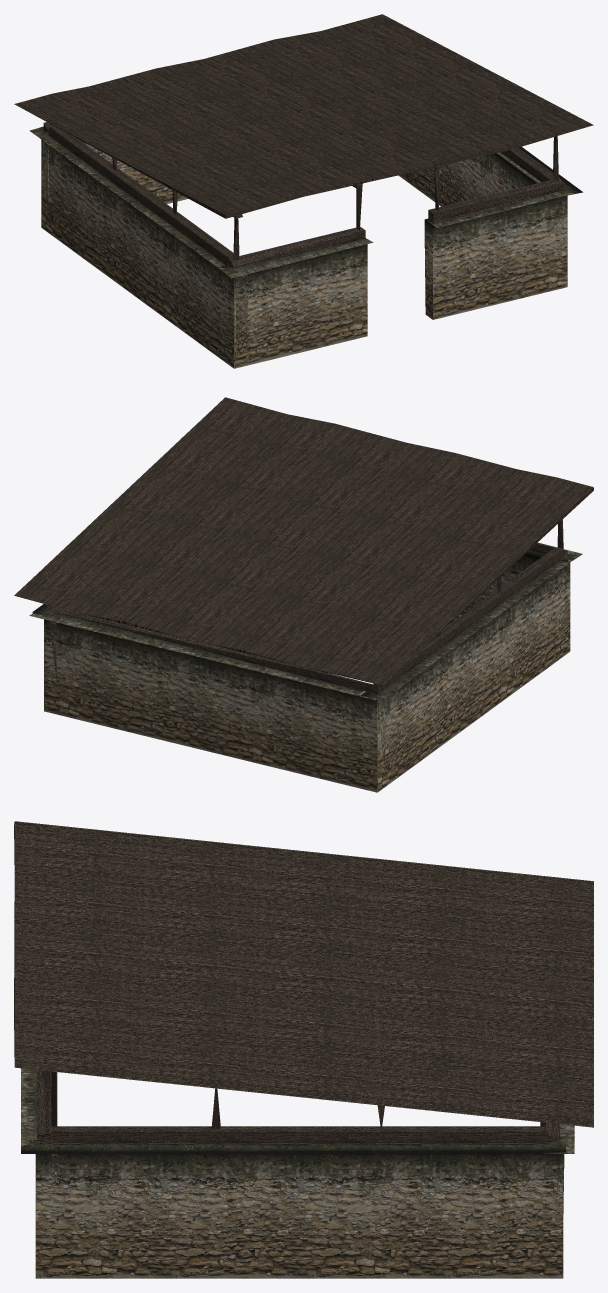
The model's file is barn2_LOD.fbx.
The picture shows the model from 3 angles, top to bottom: view 1: azimuth 30°, elevation 25°; view 2: azimuth 150°, elevation 25°; view 3: azimuth 270°, elevation 25°; orthographic projection. The views are drawn at different scales.
Parts seen in each view (by area): view 1: Mesh Object; view 2: Mesh Object; view 3: Mesh Object.
Part boxes in pixels (x1=…): Mesh Object: x1=14, y1=14, x2=593, y2=368; Mesh Object: x1=14, y1=397, x2=593, y2=792; Mesh Object: x1=14, y1=821, x2=593, y2=1278.
Size of the model in its own units: 14.19 by 6.03 by 14.11.
